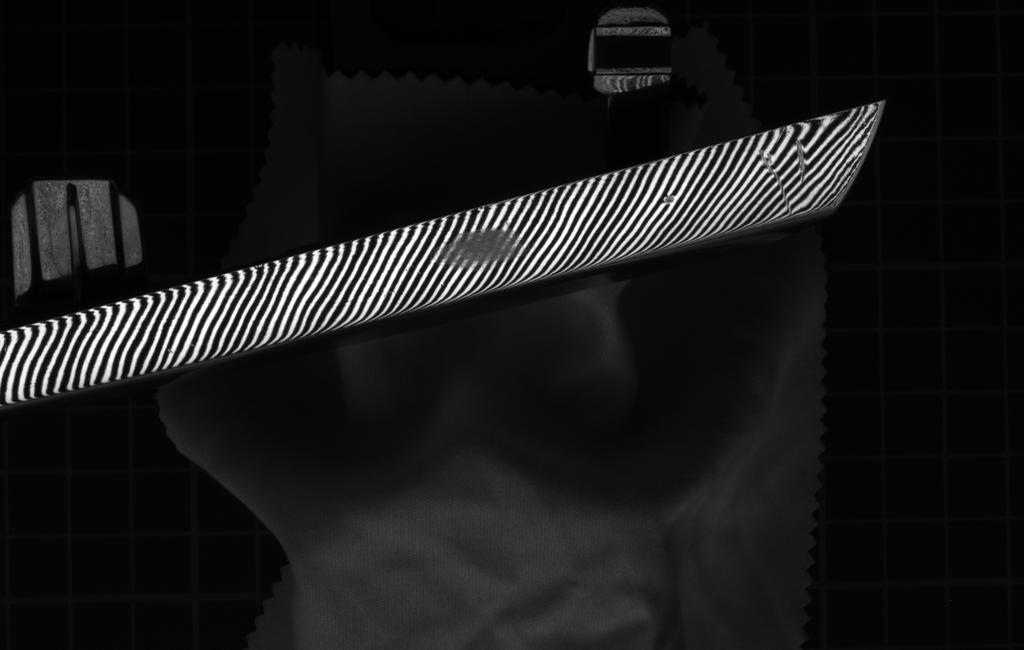Pierced: (658, 191, 683, 208)
Pitting: (438, 224, 533, 272)
Scratch: (752, 148, 796, 221), (793, 132, 813, 197)
